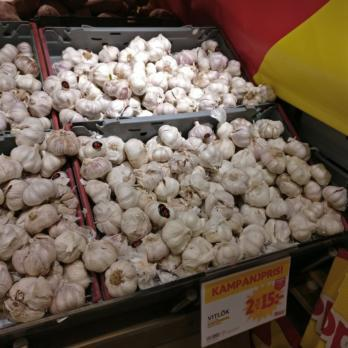Garlic: (75, 134, 304, 251), (0, 42, 65, 318), (56, 37, 241, 112), (69, 256, 154, 294), (309, 159, 348, 235)
